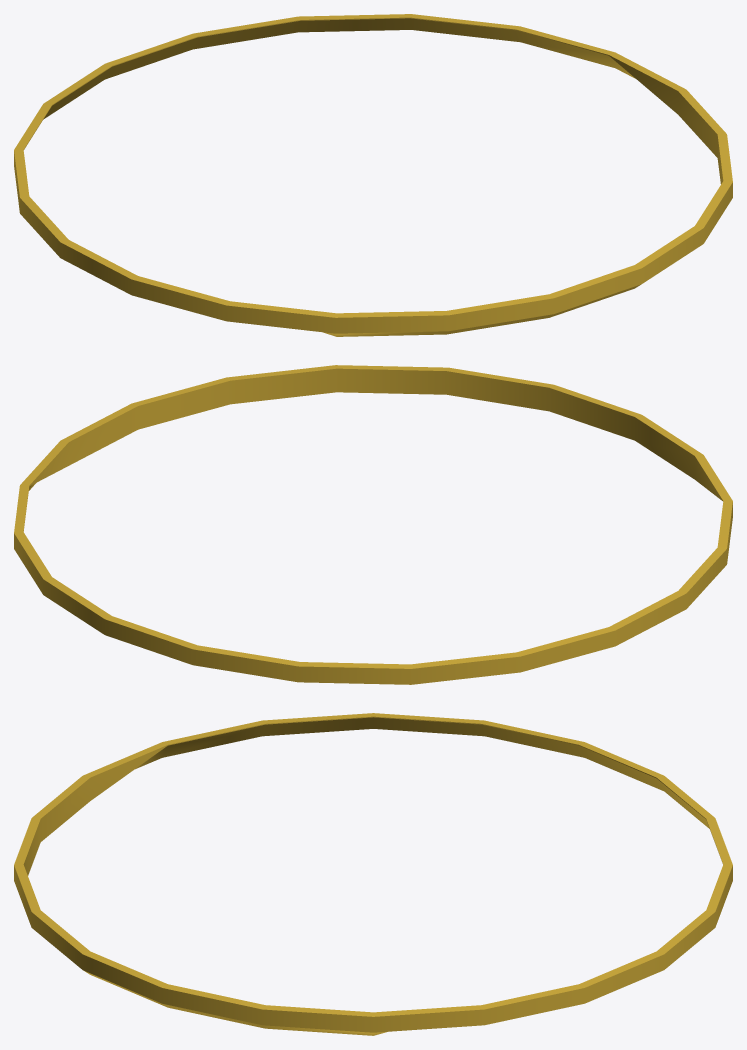
Rendered from CoinKant.fbx.
3 views of the same model, one above another, from view 1: azimuth 30°, elevation 25°; view 2: azimuth 150°, elevation 25°; view 3: azimuth 270°, elevation 25° (orthographic).
Parts seen in each view (by area): view 1: pPipe1; view 2: pPipe1; view 3: pPipe1.
Boxes of the visible parts, x1,y1,x2,y2 form: pPipe1: [14, 14, 732, 336]; pPipe1: [14, 365, 732, 684]; pPipe1: [14, 713, 732, 1035].
Bounding box in the file's own units: 2 × 0.0722 × 2.
1 material, 1 textured.
